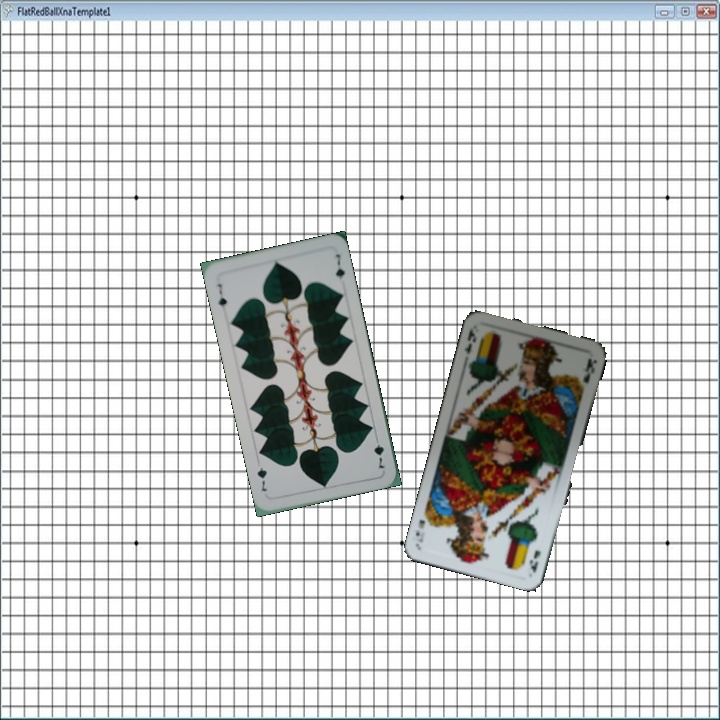EK: (460, 323, 479, 358), (527, 546, 543, 575)
G7: (370, 432, 387, 471), (213, 280, 229, 309)
